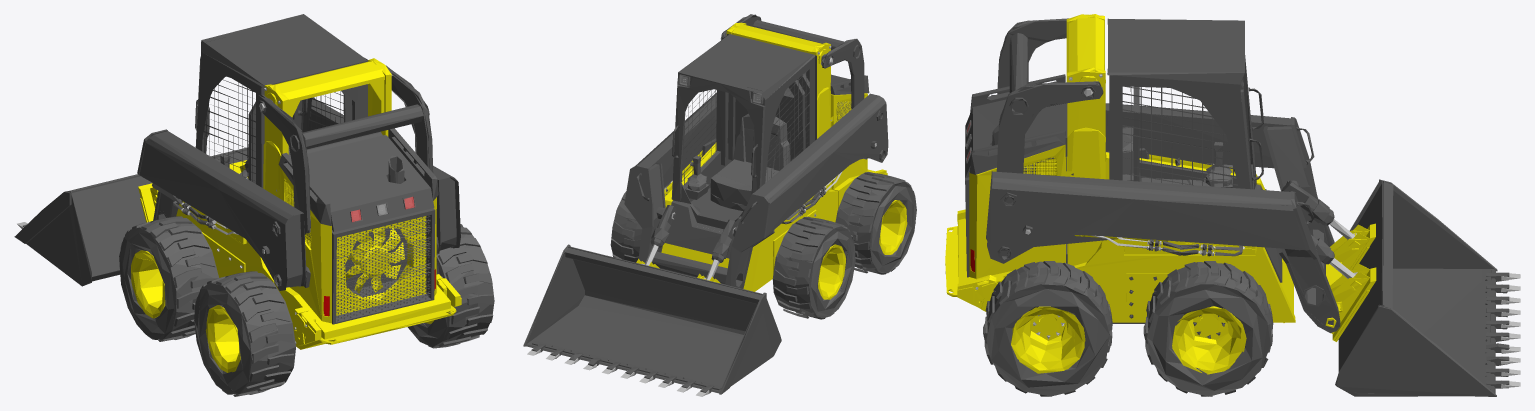
File: SkidSteer_Loader_A.fbx
The picture shows the model from 3 angles, left to right: view 1: azimuth 30°, elevation 25°; view 2: azimuth 150°, elevation 25°; view 3: azimuth 270°, elevation 25°; orthographic projection. The views are drawn at different scales.
Visible parts, largest first — view 1: SkidSteer_LOD0; view 2: SkidSteer_LOD0; view 3: SkidSteer_LOD0.
Boxes of the visible parts, x1=… form: SkidSteer_LOD0: x1=14, y1=14, x2=494, y2=396; SkidSteer_LOD0: x1=523, y1=14, x2=916, y2=396; SkidSteer_LOD0: x1=945, y1=14, x2=1520, y2=396.
Size of what is drawn, in the model's own units: 2.03 by 2.15 by 3.81.
